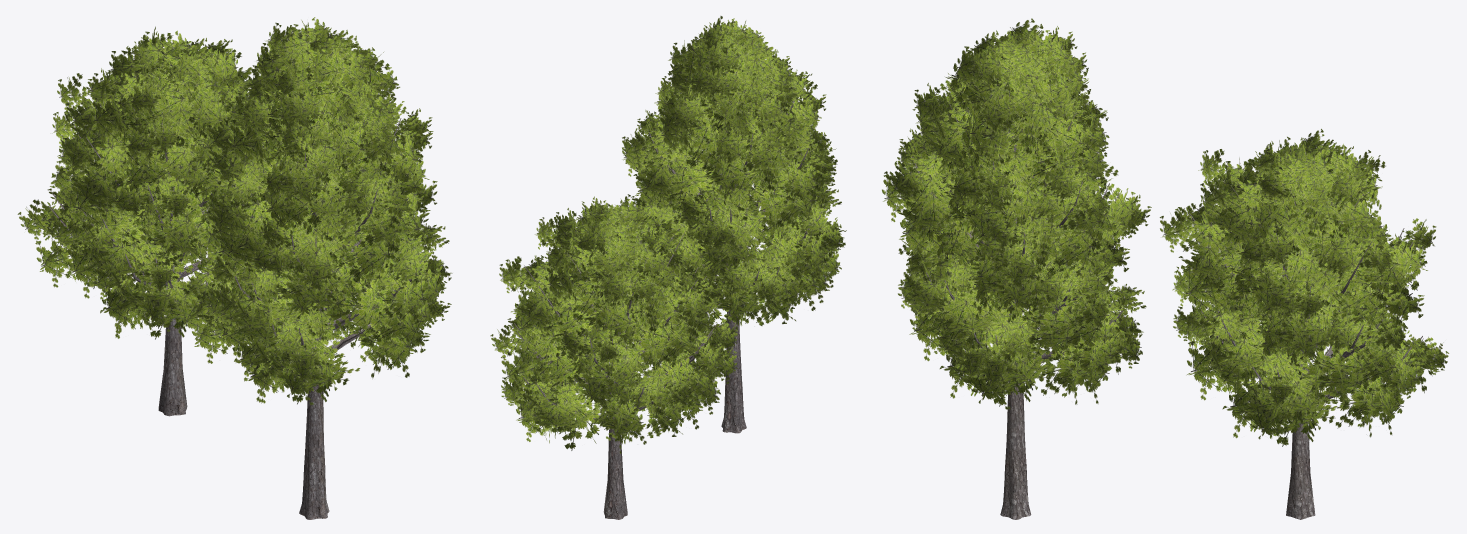
The model's file is trees_low_poly.glb.
3 views of the same model, side by side, from view 1: azimuth 30°, elevation 25°; view 2: azimuth 150°, elevation 25°; view 3: azimuth 270°, elevation 25° (orthographic). The views are drawn at different scales.
Visible parts, largest first — view 1: tree4, tree6; view 2: tree6, tree4; view 3: tree4, tree6.
Part boxes in pixels (x1,y1,x2,y2): tree4: [177, 17, 452, 519]; tree6: [17, 26, 311, 416]; tree6: [490, 194, 737, 519]; tree4: [622, 16, 846, 433]; tree4: [882, 18, 1151, 519]; tree6: [1159, 129, 1448, 519].
Size of the model in its own units: 580 by 1036 by 1100.
Materials: 2 (2 with a texture image).
